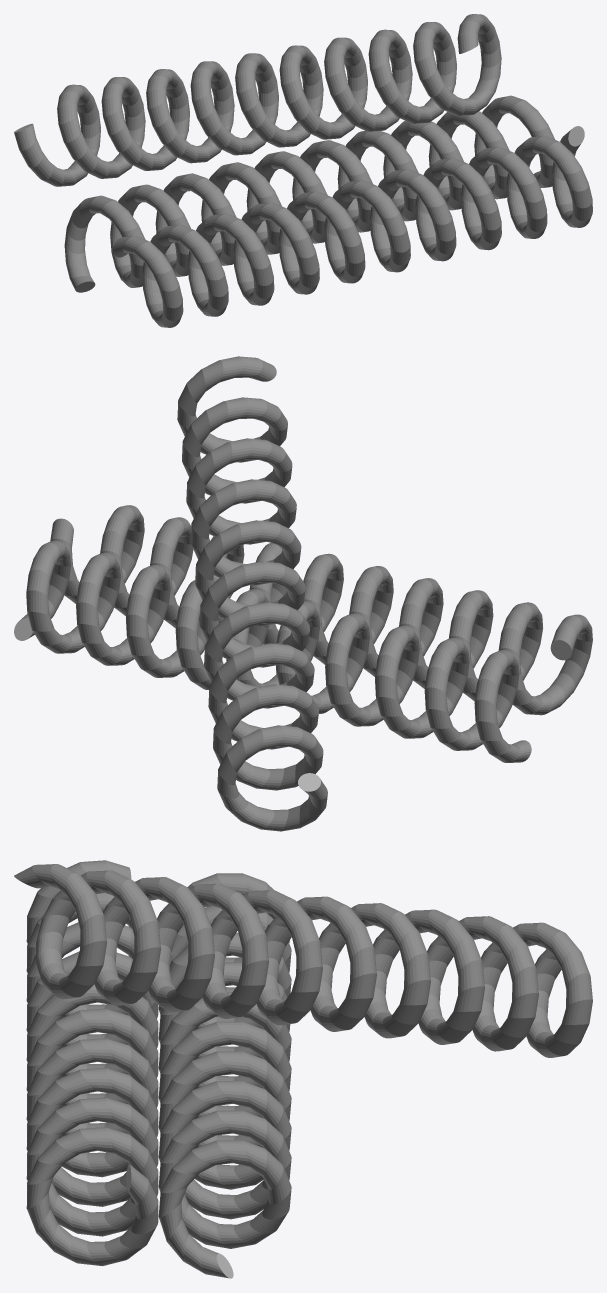
The model's file is SM_Int_Spring.fbx.
3 renders of one model, top to bottom at view 1: azimuth 30°, elevation 25°; view 2: azimuth 150°, elevation 25°; view 3: azimuth 270°, elevation 25°, orthographic. The views are drawn at different scales.
Visible parts, largest first — view 1: loot-scrap-spring; view 2: loot-scrap-spring; view 3: loot-scrap-spring.
Boxes of the visible parts, bbox=[...] form: loot-scrap-spring: bbox=[14, 14, 592, 327]; loot-scrap-spring: bbox=[14, 356, 592, 831]; loot-scrap-spring: bbox=[14, 860, 592, 1278].
Size of the model in its own units: 0.4957 by 0.2454 by 0.3936.
1 material, 1 textured.
